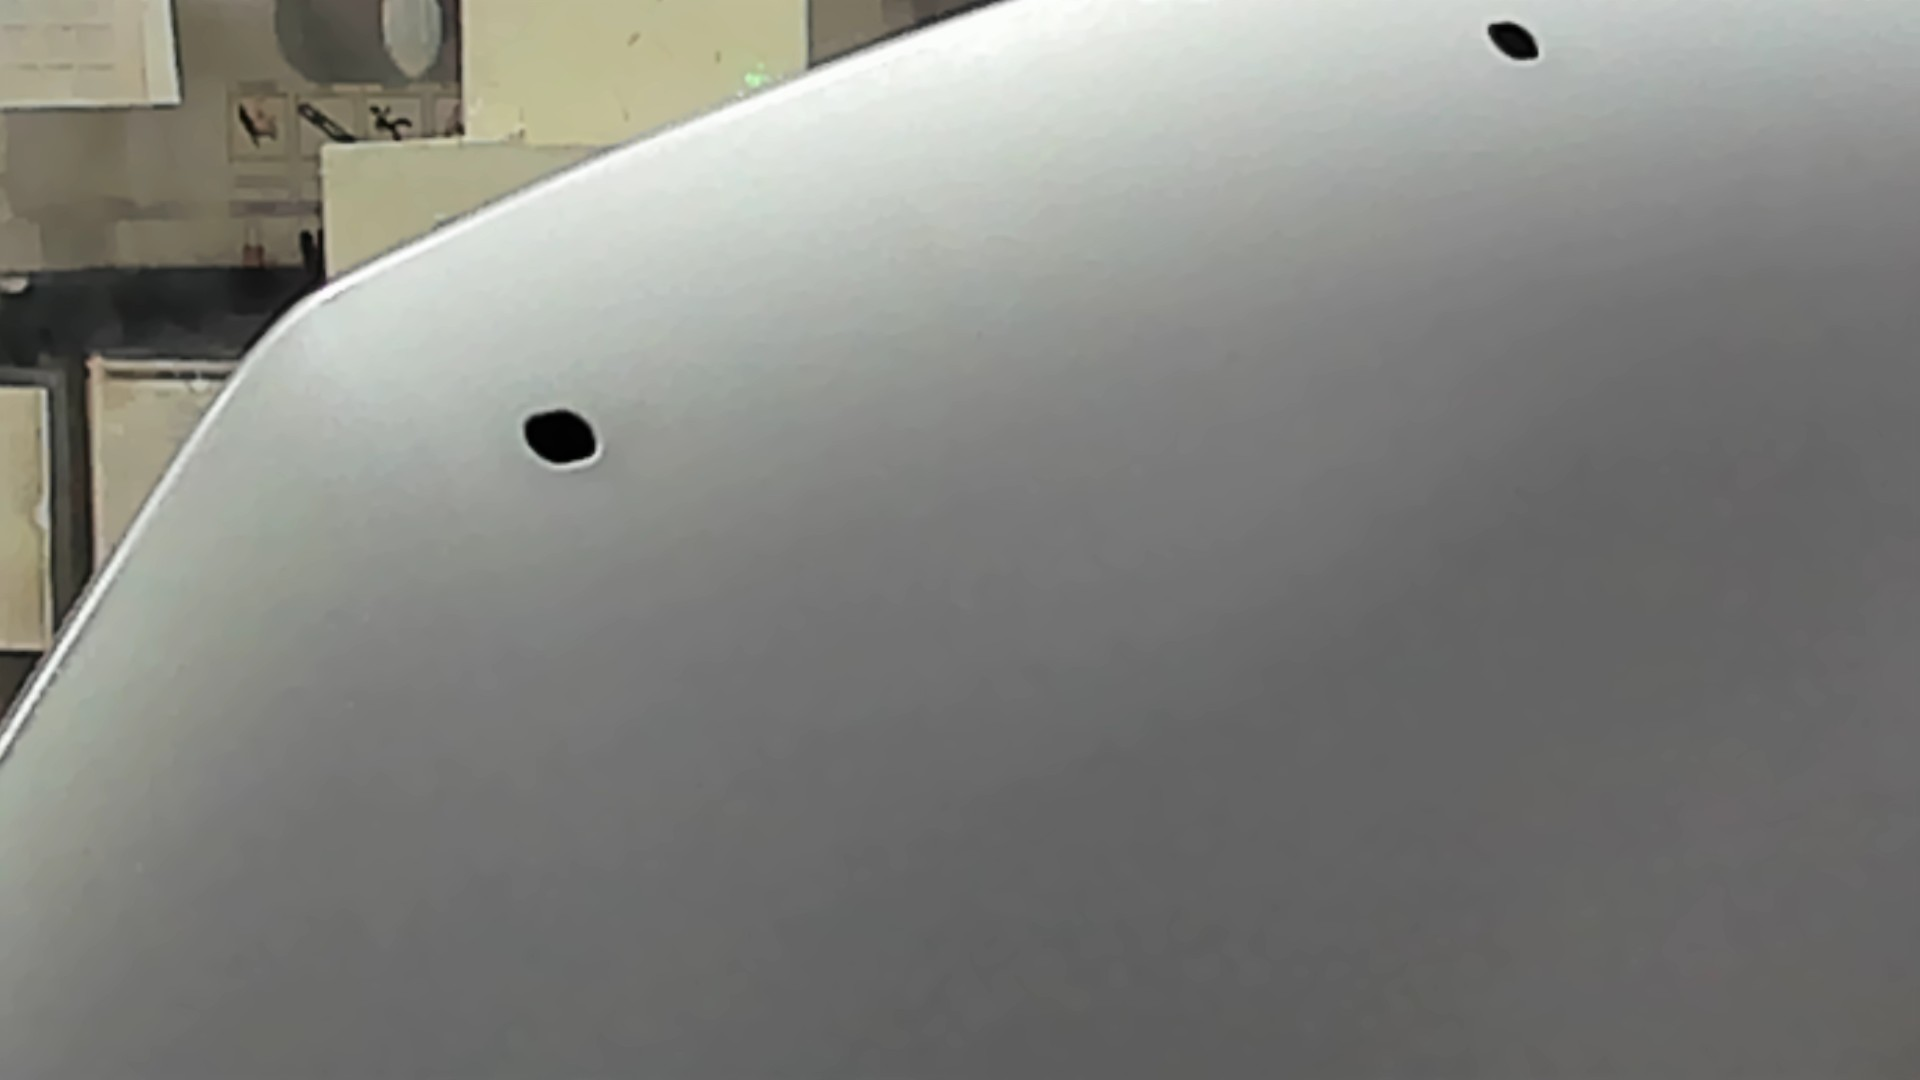chico: (505, 392, 616, 477), (1480, 8, 1549, 76)
